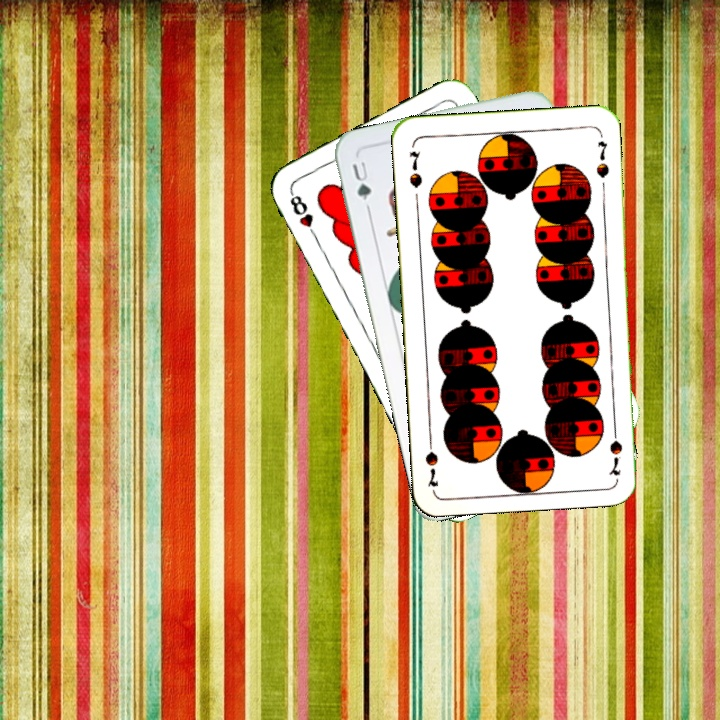GU: (348, 156, 374, 203)
H8: (285, 187, 321, 242)
S7: (605, 420, 625, 478), (405, 147, 425, 190)
